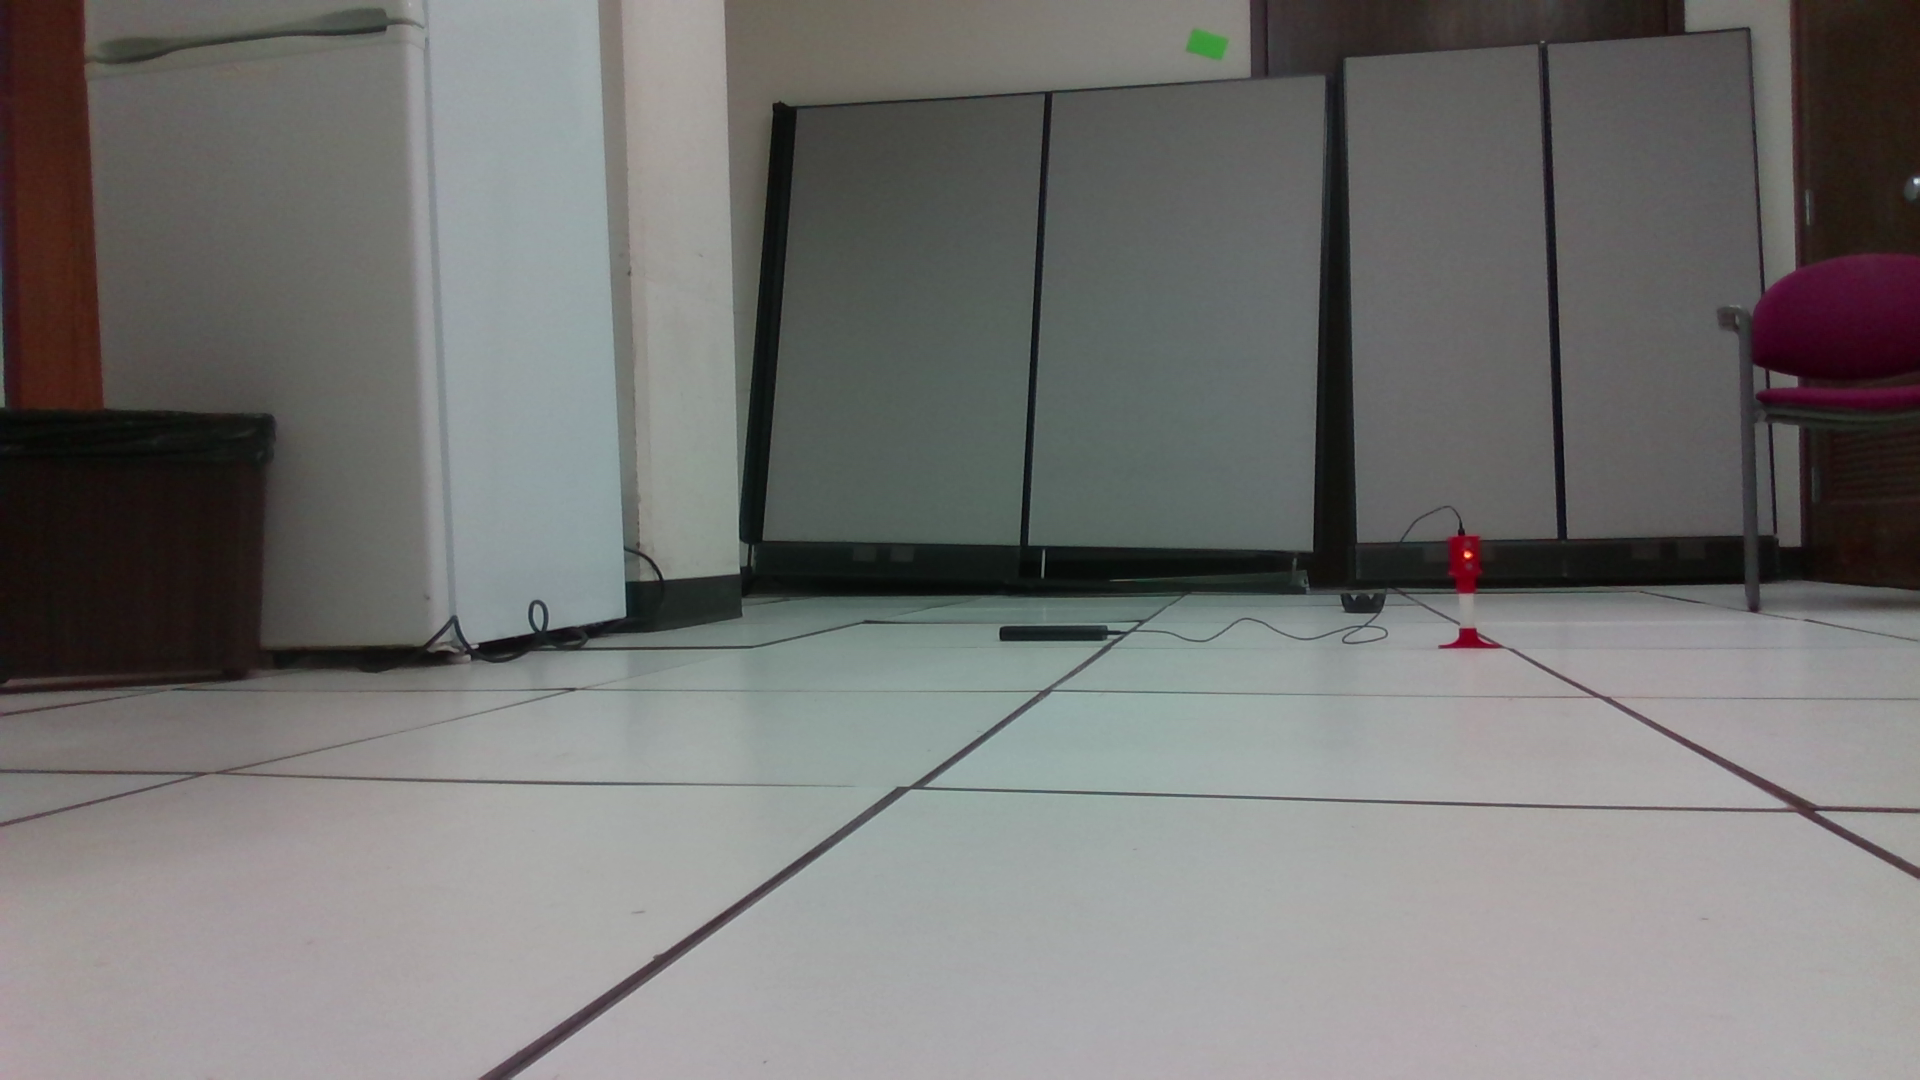stoplight: (1447, 533, 1490, 593)
